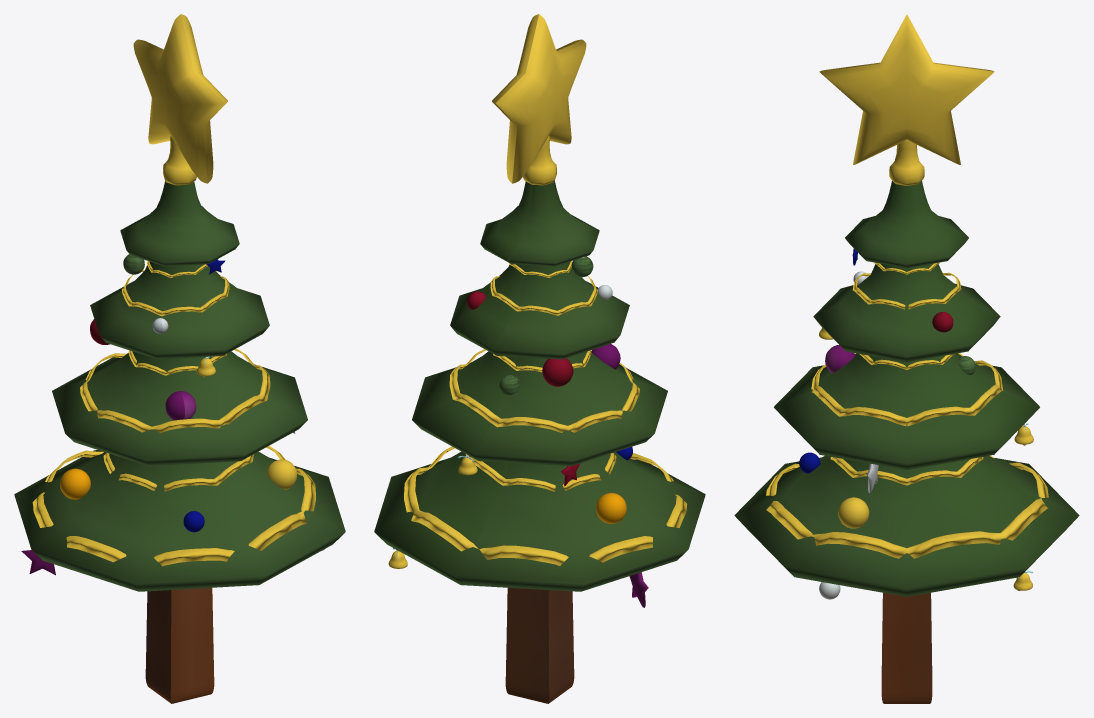
3 renders of one model, left to right at view 1: azimuth 30°, elevation 25°; view 2: azimuth 150°, elevation 25°; view 3: azimuth 270°, elevation 25°, orthographic.
Visible parts, largest first — view 1: Cylinder.011, Star, Cube, Cylinder.017, Cylinder.019, Cylinder, Cylinder.021, Sphere.007, Sphere.011, Sphere.013; view 2: Cylinder.011, Star, Cube, Cylinder.017, Cylinder.019, Cylinder, Cylinder.021, Sphere.007, Sphere.002; view 3: Cylinder.011, Star, Cube, Cylinder.017, Cylinder.019, Cylinder, Sphere.013, Cylinder.021, Sphere.011.
Part boxes in pixels (left/top/right/bottom): Cylinder.011: left=14, top=181, right=345, bottom=591; Star: left=133, top=14, right=227, bottom=185; Cube: left=145, top=587, right=214, bottom=703; Cylinder.017: left=32, top=446, right=315, bottom=566; Cylinder.019: left=80, top=348, right=270, bottom=433; Cylinder: left=103, top=453, right=253, bottom=491; Cylinder.021: left=122, top=269, right=229, bottom=316; Sphere.007: left=60, top=468, right=90, bottom=499; Sphere.011: left=165, top=391, right=196, bottom=420; Sphere.013: left=266, top=459, right=297, bottom=489; Cylinder.011: left=374, top=181, right=705, bottom=591; Star: left=492, top=14, right=586, bottom=185; Cube: left=505, top=587, right=574, bottom=703; Cylinder.017: left=404, top=446, right=687, bottom=565; Cylinder.019: left=449, top=349, right=639, bottom=432; Cylinder: left=465, top=453, right=616, bottom=491; Cylinder.021: left=490, top=271, right=597, bottom=315; Sphere.007: left=596, top=493, right=626, bottom=523; Sphere.002: left=542, top=358, right=573, bottom=386; Cylinder.011: left=734, top=181, right=1079, bottom=596; Star: left=819, top=14, right=994, bottom=185; Cube: left=881, top=592, right=932, bottom=703; Cylinder.017: left=766, top=455, right=1048, bottom=558; Cylinder.019: left=811, top=353, right=1002, bottom=426; Cylinder: left=830, top=457, right=983, bottom=485; Sphere.013: left=838, top=497, right=869, bottom=528; Cylinder.021: left=852, top=272, right=961, bottom=309; Sphere.011: left=825, top=345, right=855, bottom=373.
Size of the model in its own units: 3.58 by 7.78 by 3.58.
11 materials, 10 textured.
